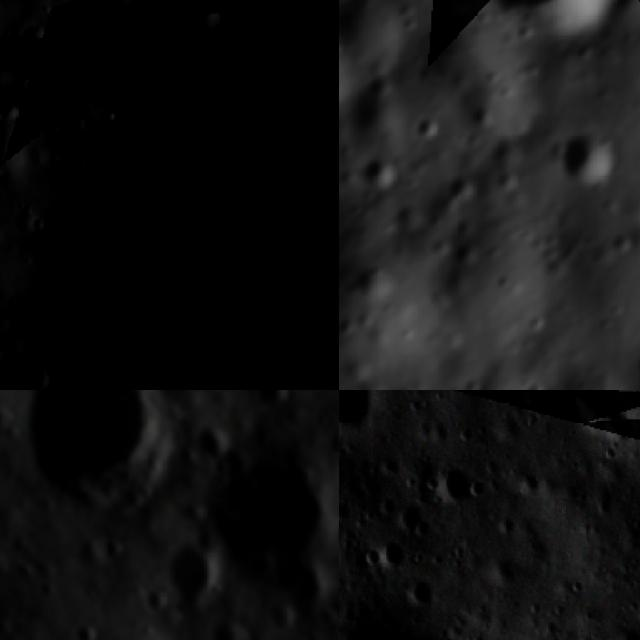crater: (0, 0, 339, 390), (164, 398, 339, 640), (0, 390, 221, 545), (128, 0, 255, 67), (148, 524, 238, 616), (339, 0, 414, 89), (339, 77, 412, 168), (481, 0, 625, 43), (559, 126, 622, 192), (8, 6, 70, 71), (569, 390, 640, 444), (182, 408, 239, 469), (255, 590, 306, 640), (434, 460, 478, 508), (238, 390, 301, 423), (132, 578, 177, 624), (94, 527, 136, 570), (59, 606, 112, 640), (339, 390, 376, 434), (486, 550, 524, 589), (360, 158, 400, 195), (200, 610, 249, 640), (402, 570, 436, 612), (390, 500, 426, 537), (375, 536, 410, 574), (514, 469, 544, 501), (517, 390, 552, 415), (493, 511, 522, 539), (464, 473, 488, 502), (269, 390, 320, 403), (412, 518, 436, 544), (454, 424, 476, 446), (615, 622, 640, 640), (474, 390, 514, 400), (631, 578, 640, 607)
